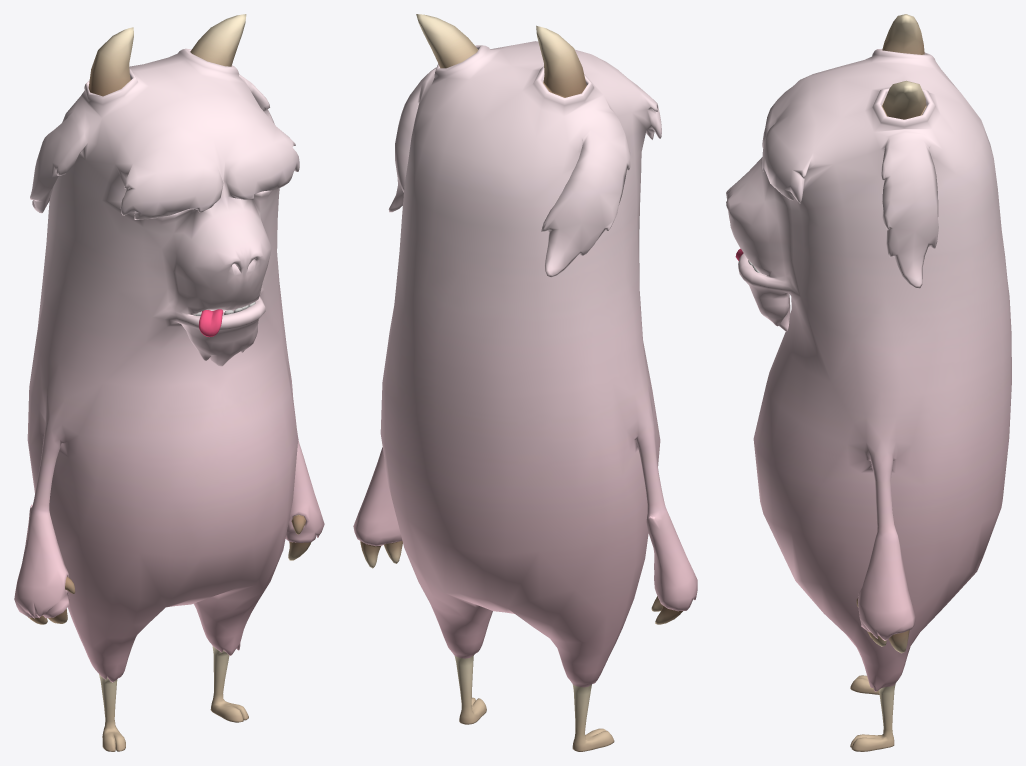
Rendered from uploads_files_835487_Goat.FBX.
3 renders of one model, left to right at view 1: azimuth 30°, elevation 25°; view 2: azimuth 150°, elevation 25°; view 3: azimuth 270°, elevation 25°, orthographic. The views are drawn at different scales.
Visible parts, largest first — view 1: Goat; view 2: Goat; view 3: Goat.
Boxes of the visible parts, <box> form: Goat: <box>14,14,324,751</box>; Goat: <box>353,14,697,751</box>; Goat: <box>726,14,1011,751</box>.
Bounding box in the file's own units: 180 × 384 × 144.
Materials: 5 (2 with a texture image).
